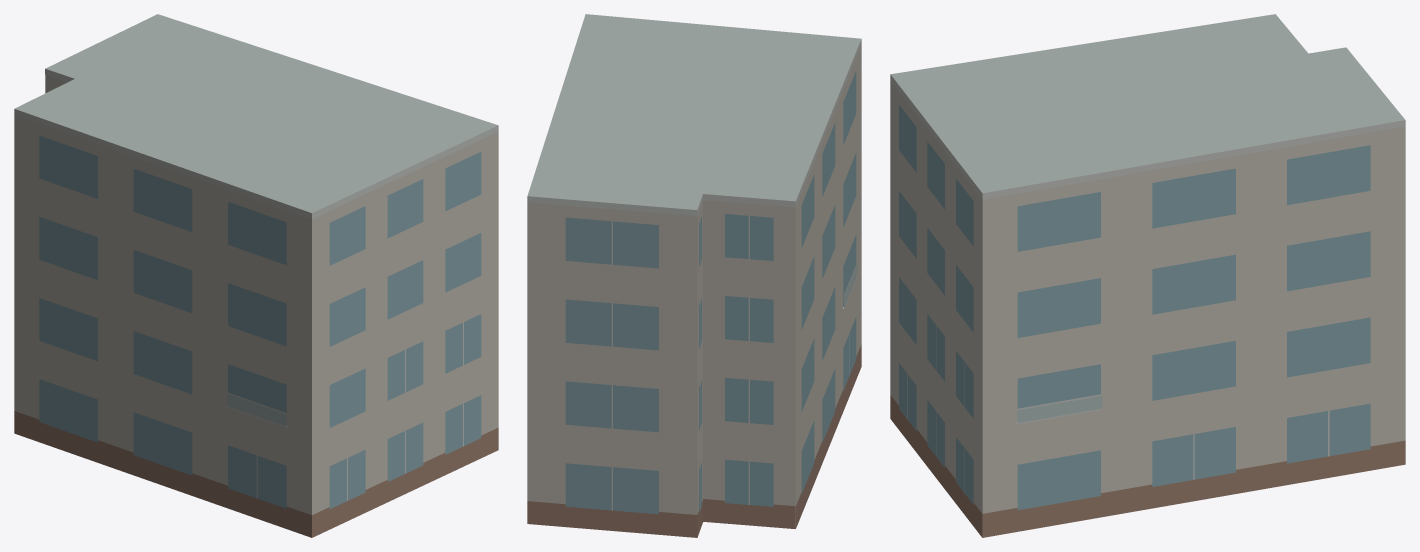
Rendered from survey-upis-32866900.glb.
3 renders of one model, left to right at view 1: azimuth 30°, elevation 25°; view 2: azimuth 150°, elevation 25°; view 3: azimuth 270°, elevation 25°, orthographic. The views are drawn at different scales.
Visible parts, largest first — view 1: survey-upis-32866900.tmp; view 2: survey-upis-32866900.tmp; view 3: survey-upis-32866900.tmp.
Boxes of the visible parts, x1,y1,x2,y2 form: survey-upis-32866900.tmp: (14,14,498,537); survey-upis-32866900.tmp: (527,14,861,537); survey-upis-32866900.tmp: (890,14,1405,537).
Size of the model in its own units: 14.59 by 13.06 by 17.7.
